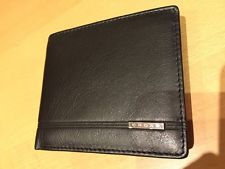monedero: (34, 5, 189, 159)
